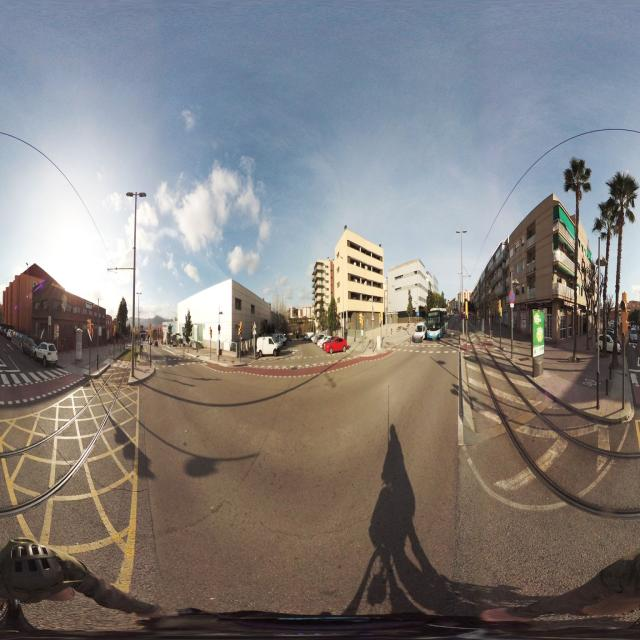forb_stopping: (509, 292, 515, 304), (218, 325, 220, 332)
forb_waiting: (461, 313, 464, 319)
